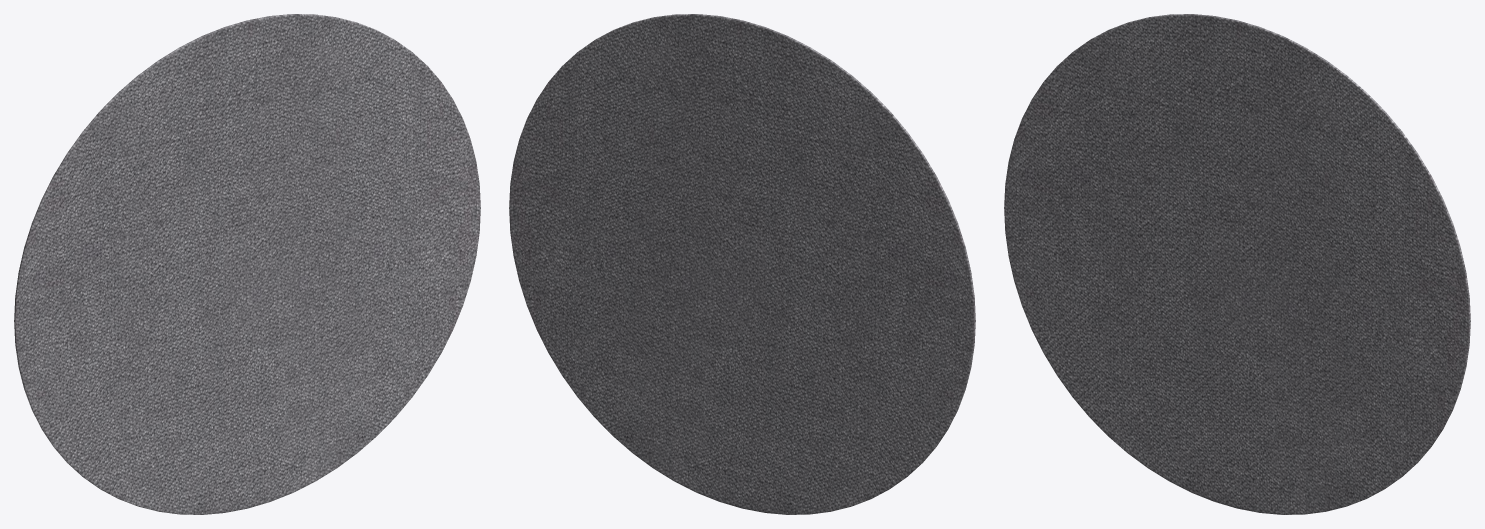
The model's file is button_oscar03.fbx.
The picture shows the model from 3 angles, left to right: view 1: azimuth 30°, elevation 25°; view 2: azimuth 150°, elevation 25°; view 3: azimuth 330°, elevation 25°; orthographic projection.
Visible parts, largest first — view 1: button_oscar03; view 2: button_oscar03; view 3: button_oscar03.
Part boxes in pixels (box(x1,y1,x2,y2)): button_oscar03: box(14, 14, 480, 514); button_oscar03: box(509, 14, 975, 514); button_oscar03: box(1004, 14, 1470, 514).
Bounding box in the file's own units: 0.4 × 0.4 × 0.002.
1 material, 1 textured.
